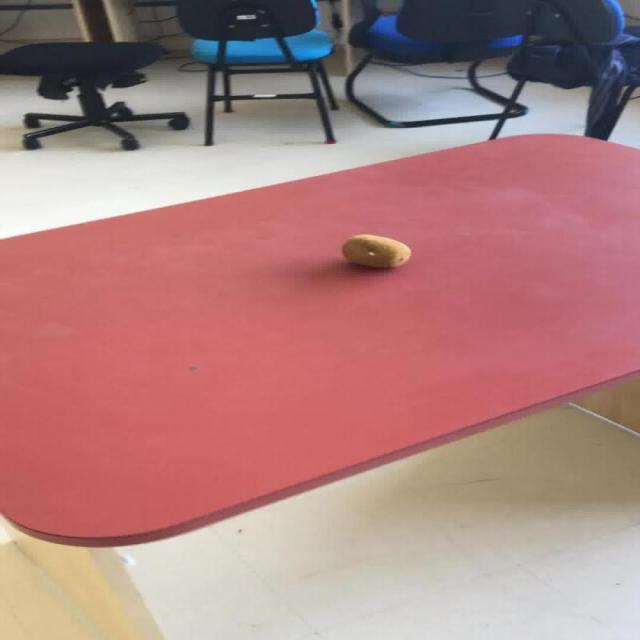Kiwi: (340, 233, 411, 268)
